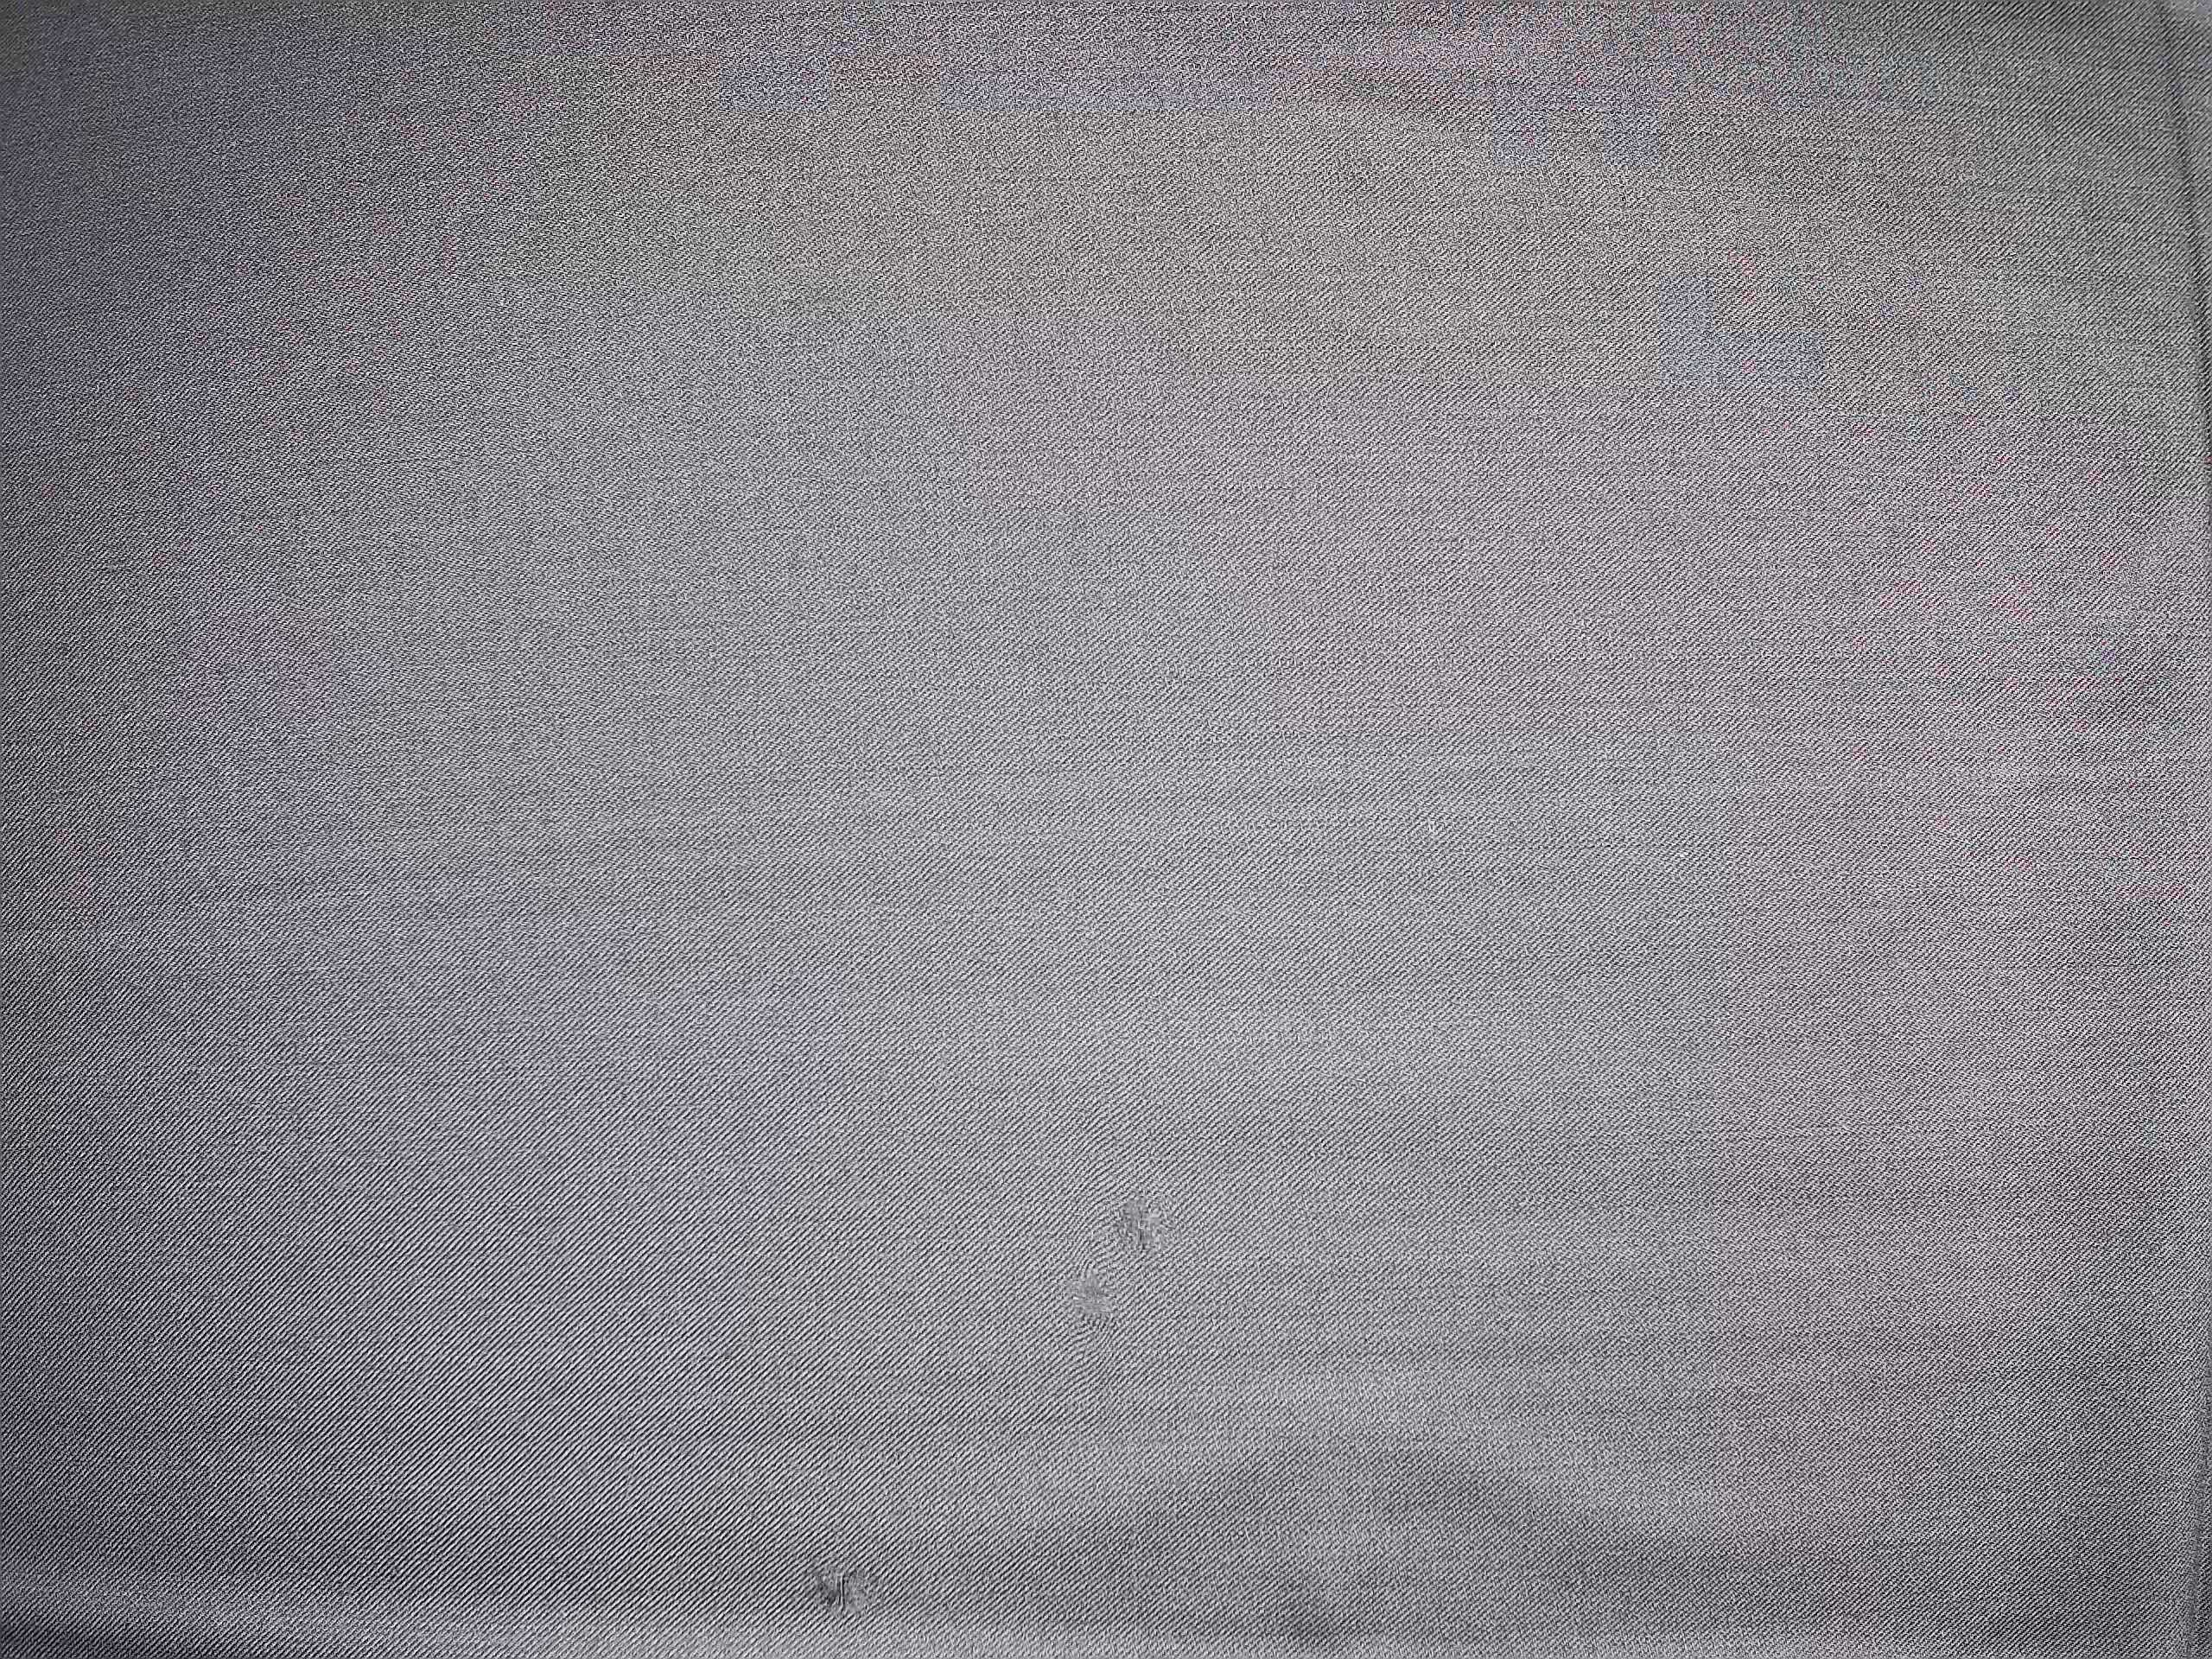puncture-hole: (1047, 1176, 1179, 1356), (786, 1537, 890, 1631)
